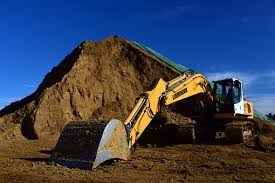excavator: (50, 74, 257, 169)
